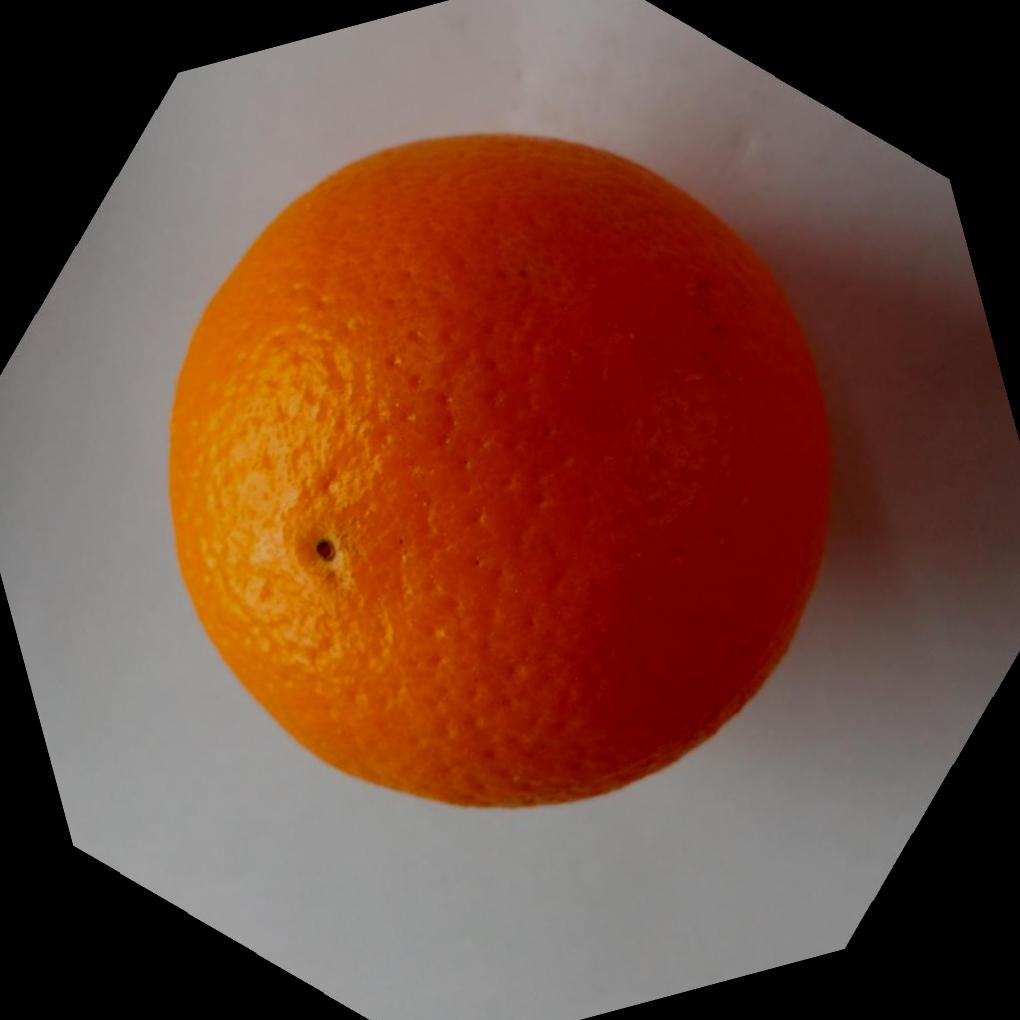FreshGuava: (164, 125, 834, 807)
